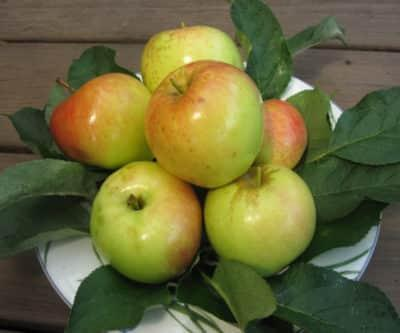apple: (146, 60, 264, 187), (91, 162, 205, 285), (205, 166, 316, 278), (48, 70, 150, 170), (141, 25, 241, 91), (258, 97, 309, 170)
